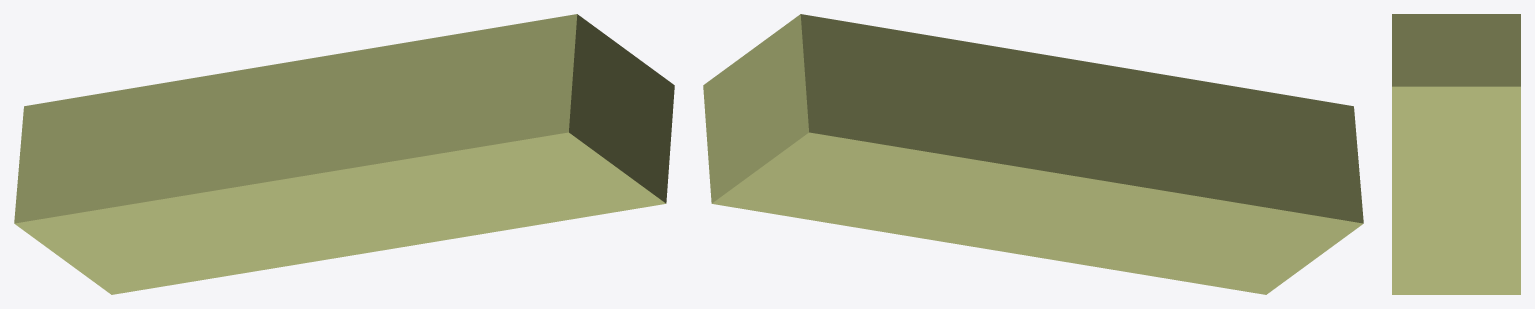
3 views of the same model, side by side, from view 1: azimuth 30°, elevation 25°; view 2: azimuth 150°, elevation 25°; view 3: azimuth 270°, elevation 25° (orthographic). The views are drawn at different scales.
Visible parts, largest first — view 1: 0_0_3_2_0_1_0_0_2_0; view 2: 0_0_3_2_0_1_0_0_2_0; view 3: 0_0_3_2_0_1_0_0_2_0.
Part boxes in pixels (box(x1,y1,x2,y2)): 0_0_3_2_0_1_0_0_2_0: box(14, 14, 674, 294); 0_0_3_2_0_1_0_0_2_0: box(703, 14, 1363, 294); 0_0_3_2_0_1_0_0_2_0: box(1392, 14, 1520, 294).
Size of the model in its own units: 20 by 5.4 by 6.
